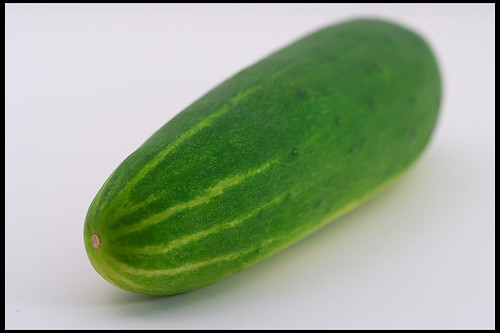cucumber: (84, 18, 442, 295)
